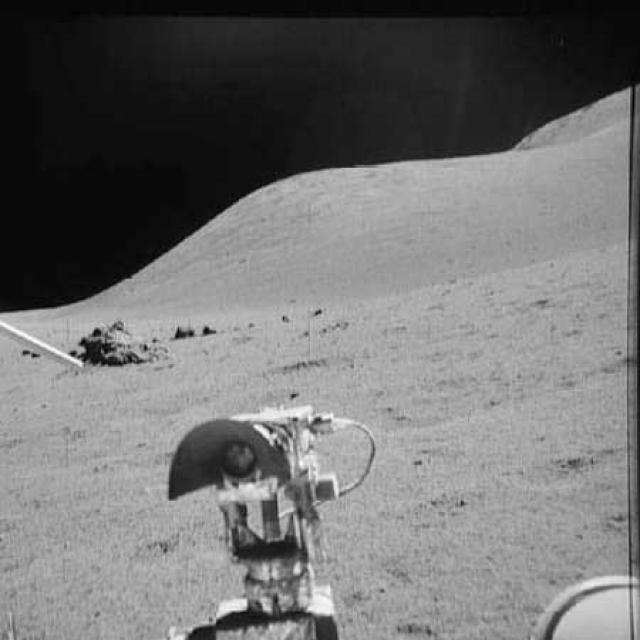artifact: (159, 404, 381, 638), (524, 566, 638, 639), (1, 316, 80, 384)
crater: (364, 382, 508, 428), (488, 454, 615, 497), (272, 349, 356, 376)
rock: (83, 318, 163, 376), (171, 323, 193, 347), (194, 314, 217, 336)
